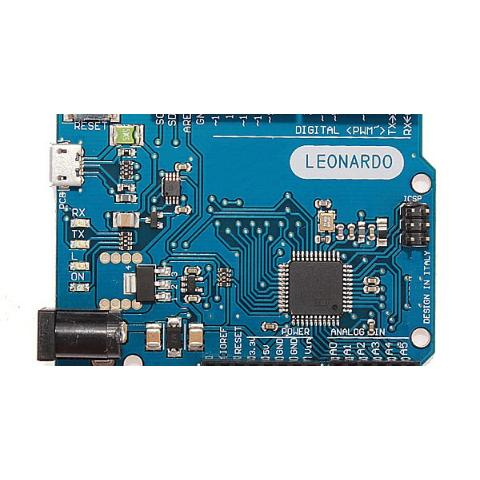Arduino-Leonardo: (35, 114, 444, 366)
